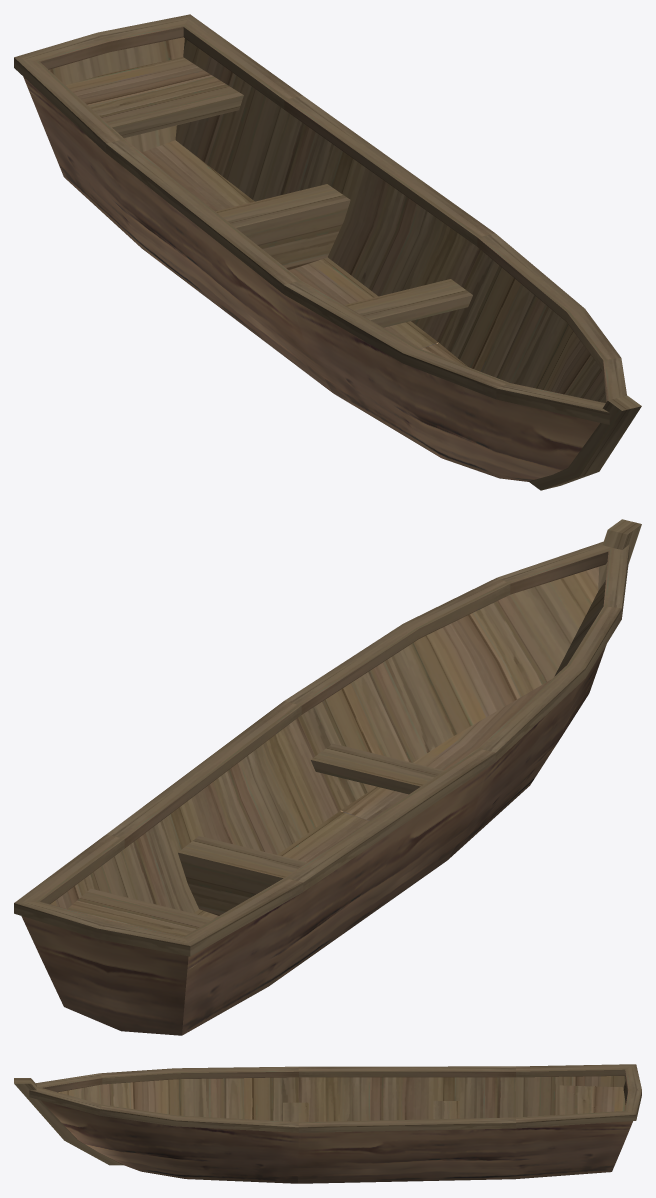
File: oBldShip01c.FBX
The picture shows the model from 3 angles, top to bottom: view 1: azimuth 30°, elevation 25°; view 2: azimuth 150°, elevation 25°; view 3: azimuth 270°, elevation 25°; orthographic projection. The views are drawn at different scales.
Parts seen in each view (by area): view 1: oBldShip01c; view 2: oBldShip01c; view 3: oBldShip01c.
Part boxes in pixels (bbox=[...]): oBldShip01c: bbox=[14, 14, 641, 490]; oBldShip01c: bbox=[14, 519, 641, 1035]; oBldShip01c: bbox=[14, 1064, 641, 1183].
Bounding box in the file's own units: 16.36 × 10.93 × 71.54.
Materials: 1 (1 with a texture image).
